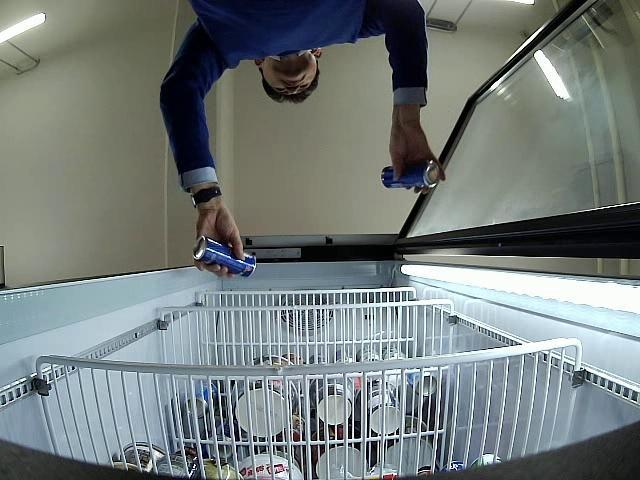16_hot6: (193, 236, 256, 278), (381, 160, 440, 190)
